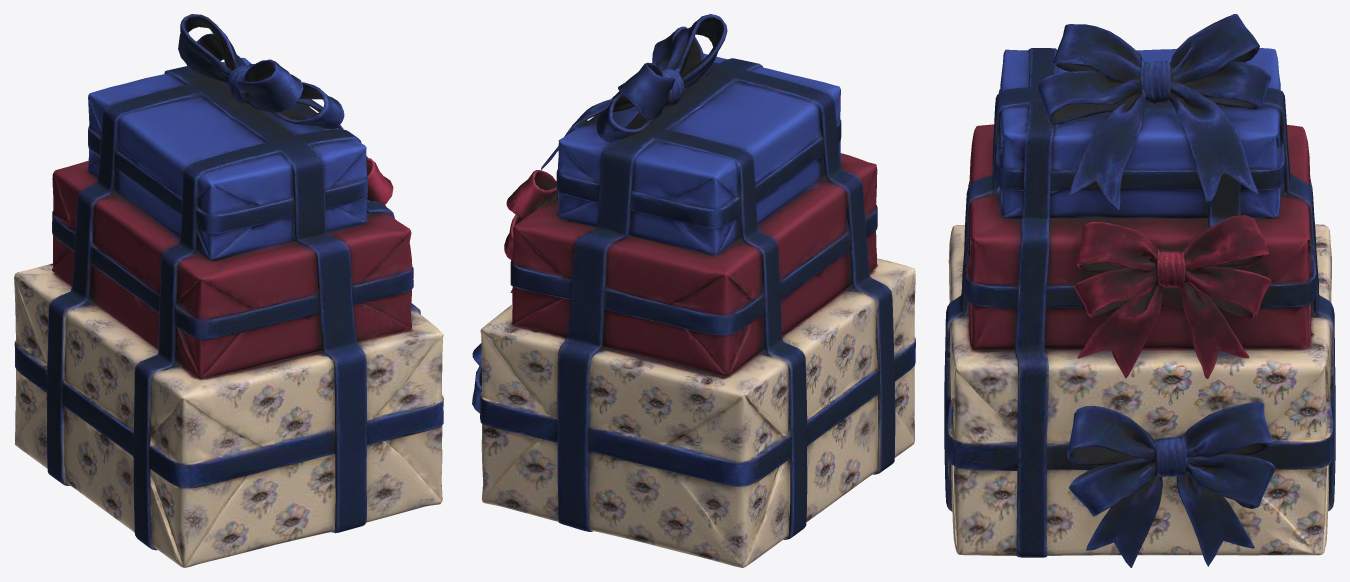
Rendered from lt_gifts.glb.
3 renders of one model, left to right at view 1: azimuth 30°, elevation 25°; view 2: azimuth 150°, elevation 25°; view 3: azimuth 270°, elevation 25°, orthographic. The views are drawn at different scales.
Parts seen in each view (by area): view 1: tripo_node_1f636c24-3539-44b7-8b66-875619e5a67e; view 2: tripo_node_1f636c24-3539-44b7-8b66-875619e5a67e; view 3: tripo_node_1f636c24-3539-44b7-8b66-875619e5a67e.
Part boxes in pixels (bbox=[...]): tripo_node_1f636c24-3539-44b7-8b66-875619e5a67e: bbox=[14, 14, 443, 567]; tripo_node_1f636c24-3539-44b7-8b66-875619e5a67e: bbox=[472, 14, 915, 567]; tripo_node_1f636c24-3539-44b7-8b66-875619e5a67e: bbox=[944, 14, 1335, 567].
Bounding box in the file's own units: 0.7581 × 1 × 0.7443.
1 material, 1 textured.
